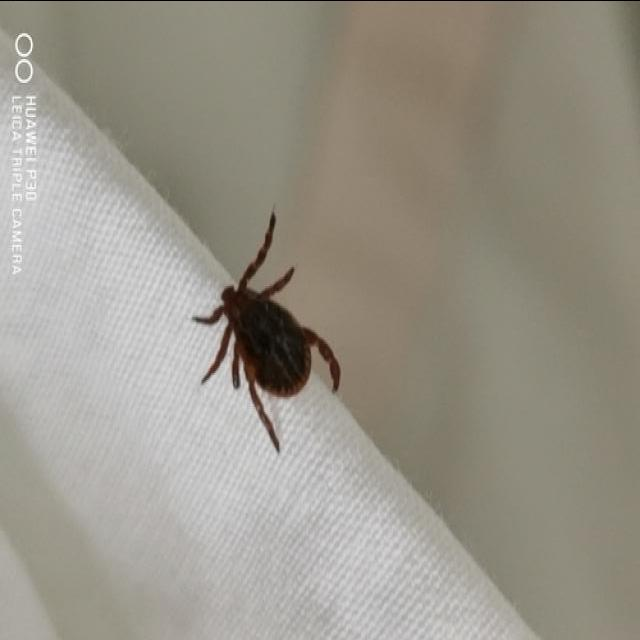Dermacentor Reticulatus-M: (191, 210, 340, 447)
